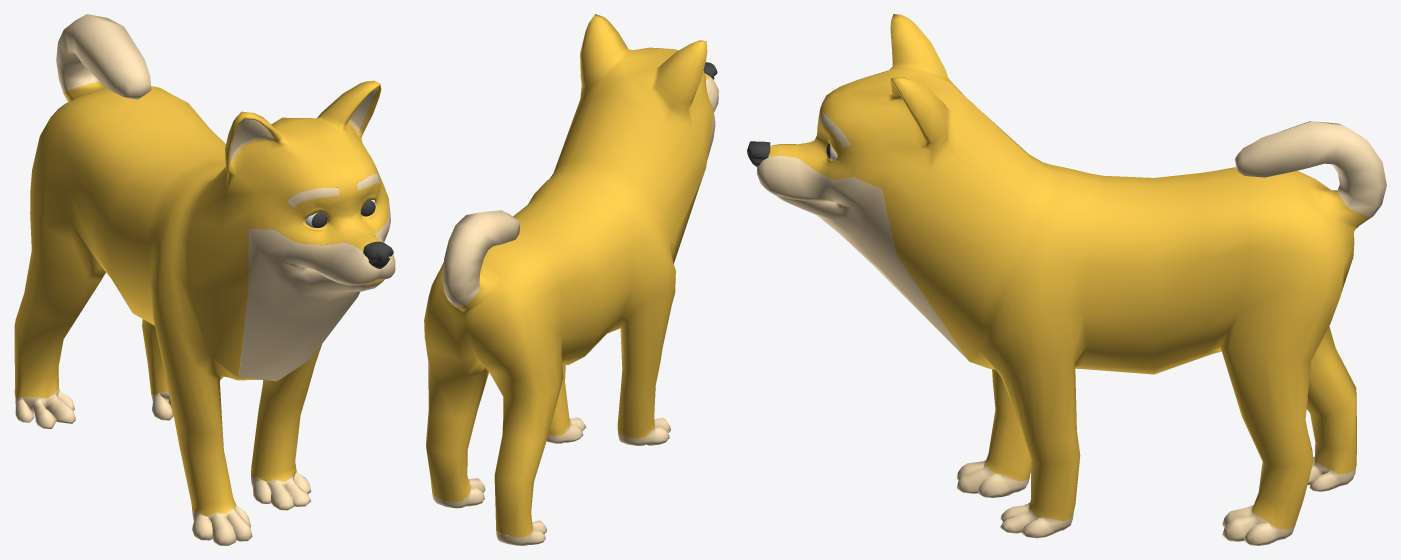
File: dogue-transformed.glb
3 renders of one model, left to right at view 1: azimuth 30°, elevation 25°; view 2: azimuth 150°, elevation 25°; view 3: azimuth 270°, elevation 25°, orthographic. The views are drawn at different scales.
Visible parts, largest first — view 1: body, nose, eyes; view 2: body; view 3: body.
Boxes of the visible parts, x1,y1,x2,y2 form: body: (14,14,395,545); nose: (363,241,393,268); eyes: (305,200,375,227); body: (424,14,718,545); body: (757,14,1386,545).
Bounding box in the file's own units: 0.7283 × 1.83 × 2.31.
